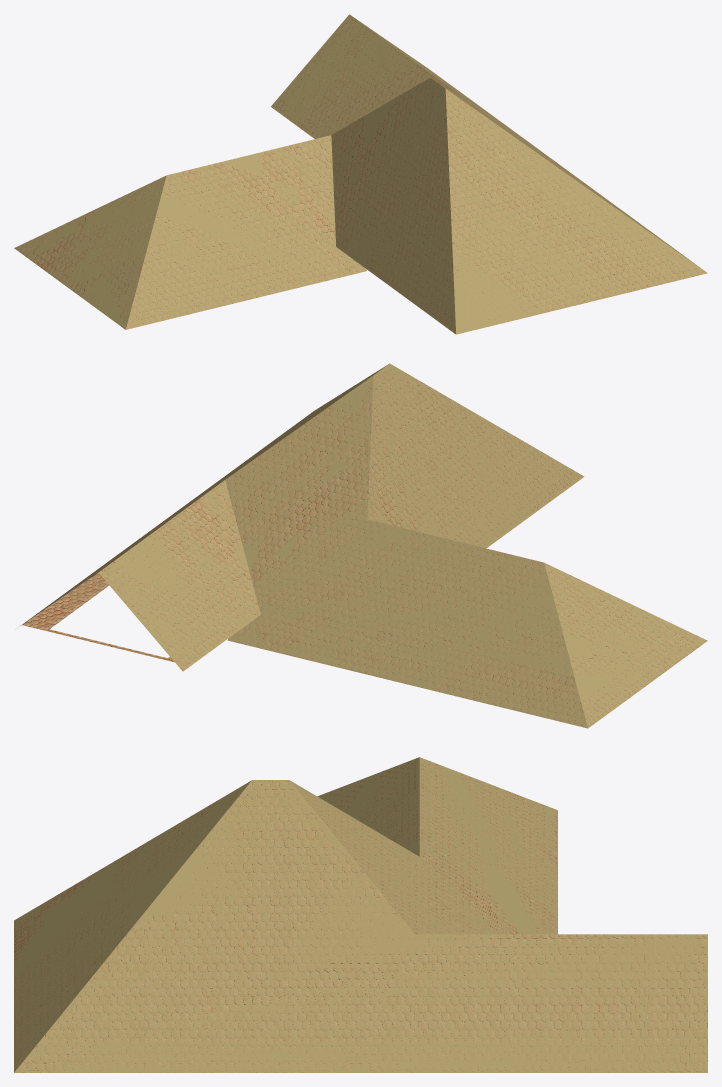
Rendered from telhado46a.dae.
3 views of the same model, one above another, from view 1: azimuth 30°, elevation 25°; view 2: azimuth 150°, elevation 25°; view 3: azimuth 270°, elevation 25° (orthographic). The views are drawn at different scales.
Visible parts, largest first — view 1: group_0; view 2: group_0 (×2); view 3: group_0.
Part boxes in pixels (x1=…): group_0: x1=14, y1=14, x2=707, y2=334; group_0 (×2): x1=19, y1=363, x2=707, y2=728; group_0: x1=14, y1=757, x2=707, y2=1072.
Size of the model in its own units: 593 by 606 by 209.
Materials: 3 (2 with a texture image).
